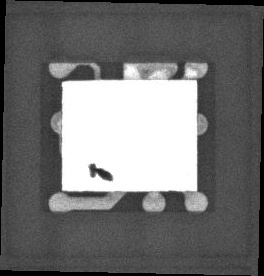DIE_INK: (83, 170, 108, 190)
